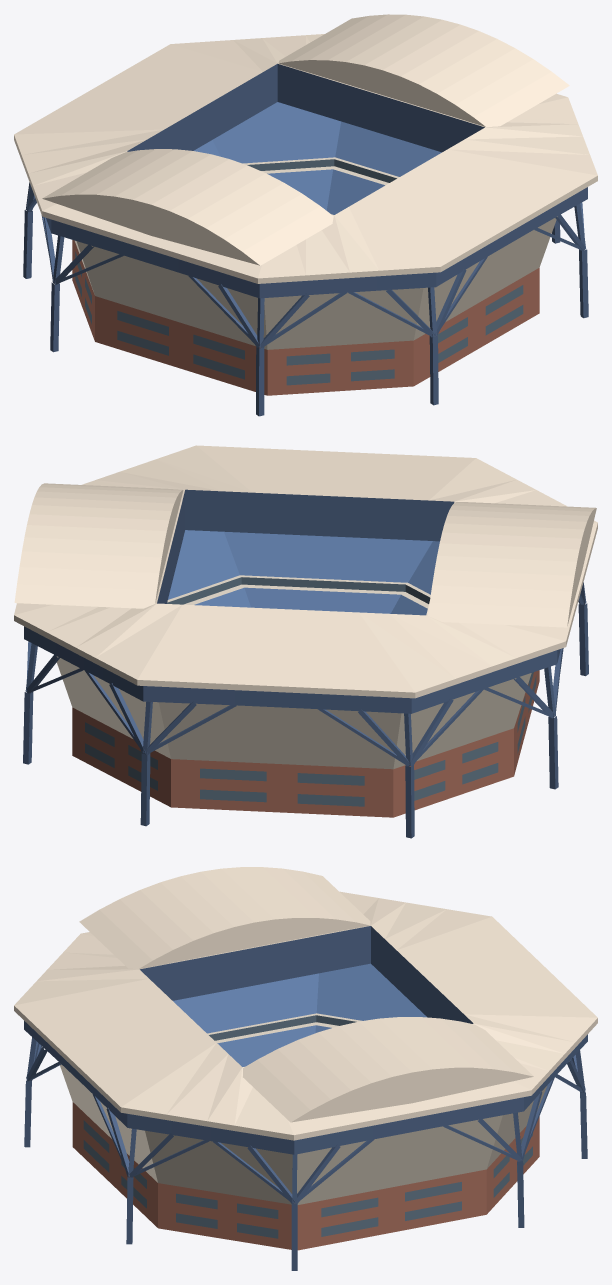
Rendered from nyc-arthur-ashe-stadium.glb.
3 renders of one model, top to bottom at view 1: azimuth 30°, elevation 25°; view 2: azimuth 150°, elevation 25°; view 3: azimuth 270°, elevation 25°, orthographic. The views are drawn at different scales.
Parts seen in each view (by area): view 1: Arthur Ashe Stadium; view 2: Arthur Ashe Stadium; view 3: Arthur Ashe Stadium.
Boxes of the visible parts, x1,y1,x2,y2 form: Arthur Ashe Stadium: (14, 14, 597, 416); Arthur Ashe Stadium: (14, 445, 597, 838); Arthur Ashe Stadium: (14, 867, 597, 1270).
Bounding box in the file's own units: 175 × 59.63 × 175.
